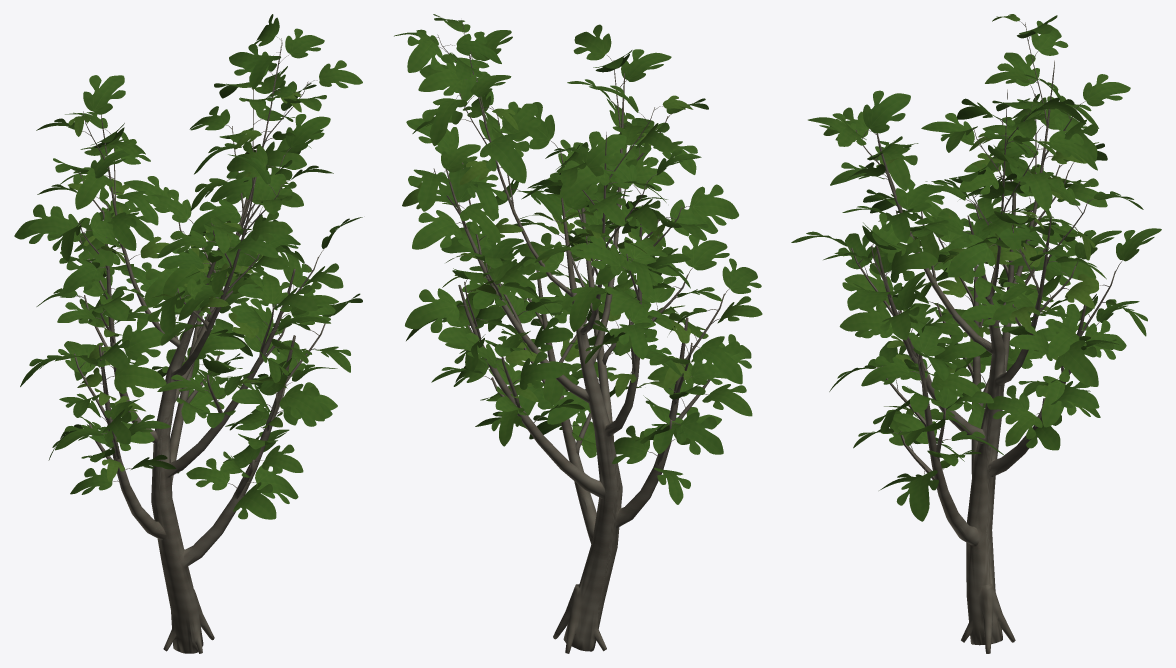
Rendered from fig-reading.glb.
3 views of the same model, side by side, from view 1: azimuth 30°, elevation 25°; view 2: azimuth 150°, elevation 25°; view 3: azimuth 270°, elevation 25° (orthographic). The views are drawn at different scales.
Visible parts, largest first — view 1: Fig mature five lobed laminae, Fig trunk branches petioles, Fig young three lobed laminae; view 2: Fig mature five lobed laminae, Fig trunk branches petioles, Fig young three lobed laminae; view 3: Fig mature five lobed laminae, Fig trunk branches petioles, Fig young three lobed laminae.
Boxes of the visible parts, left/top/right/bottom form: Fig mature five lobed laminae: left=14, top=14, right=362, bottom=519; Fig trunk branches petioles: left=74, top=36, right=330, bottom=653; Fig young three lobed laminae: left=68, top=91, right=301, bottom=481; Fig mature five lobed laminae: left=394, top=14, right=762, bottom=504; Fig trunk branches petioles: left=433, top=20, right=729, bottom=653; Fig young three lobed laminae: left=402, top=63, right=693, bottom=401; Fig mature five lobed laminae: left=791, top=15, right=1161, bottom=521; Fig trunk branches petioles: left=846, top=21, right=1122, bottom=653; Fig young three lobed laminae: left=879, top=14, right=1098, bottom=419.
Bounding box in the file's own units: 2.11 × 3.67 × 2.02.
3 materials, 3 textured.
